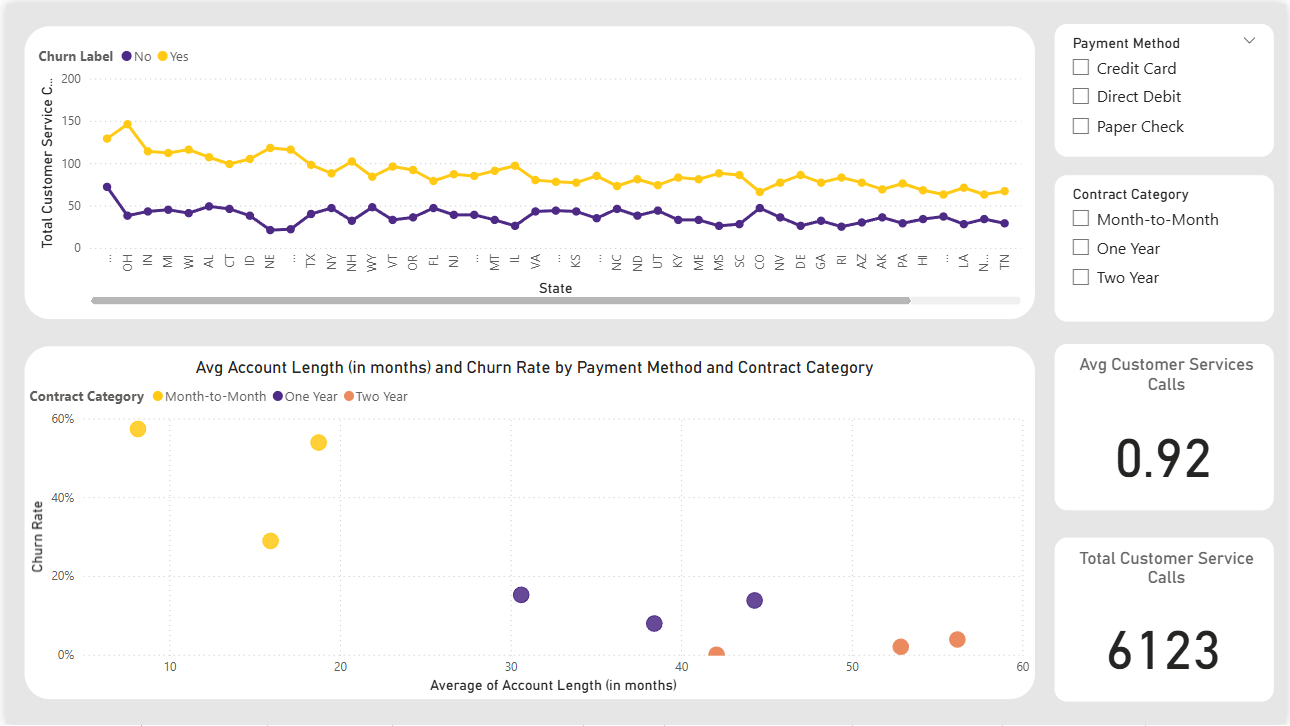

What the dashboard file says about the page in this screenshot:
{"tool":"powerbi","page":{"name":"Operational Insights","canvas":[1280,720],"ordinal":5},"visuals":[{"type":"lineChart","fields":{"Category":["Databel - Data.State"],"Series":["Databel - Data.Churn Label"],"Y":["Sum(Databel - Data.Customer Service Calls)"]},"box":[13.8,17.5,1020,302.5],"z":0},{"type":"card","title":"Total Customer Service Calls","fields":{"Values":["Sum(Databel - Data.Customer Service Calls)"]},"box":[1046.2,531.2,223.8,168.8],"z":1000},{"type":"card","title":"Avg Customer Services Calls","fields":{"Values":["Databel - Data.Avg Customer Service Calls"]},"box":[1046.2,337.5,223.8,171.2],"z":2000},{"type":"scatterChart","title":"Avg Account Length (in months) and Churn Rate by Payment Method and Contract Category","fields":{"Y":["Databel - Data.Churn Rate"],"X":["Databel - Data.Account Length (in months)"],"Category":["Databel - Data.Payment Method"],"Series":["Databel - Data.Contract Category"]},"box":[13.8,337.5,1020,362.5],"z":3000},{"type":"slicer","fields":{"Values":["Databel - Data.Contract Category"]},"box":[1046.2,168.8,223.8,151.2],"z":4000},{"type":"slicer","fields":{"Values":["Databel - Data.Payment Method"]},"box":[1046.2,17.5,223.8,137.5],"z":5000}]}

Visuals, with their boxes in screenshot pixels (x1, y1, x2, y2), scaled from the page's 1280x720 canvas onto the 1290x726 screenshot:
lineChart - Databel - Data.State x Databel - Data.Churn Label: box(14, 18, 1042, 323)
"Total Customer Service Calls" card: box(1054, 536, 1280, 706)
"Avg Customer Services Calls" card: box(1054, 340, 1280, 513)
"Avg Account Length (in months) and Churn Rate by Payment Method and Contract Category" scatterChart: box(14, 340, 1042, 706)
slicer - Databel - Data.Contract Category: box(1054, 170, 1280, 323)
slicer - Databel - Data.Payment Method: box(1054, 18, 1280, 156)
